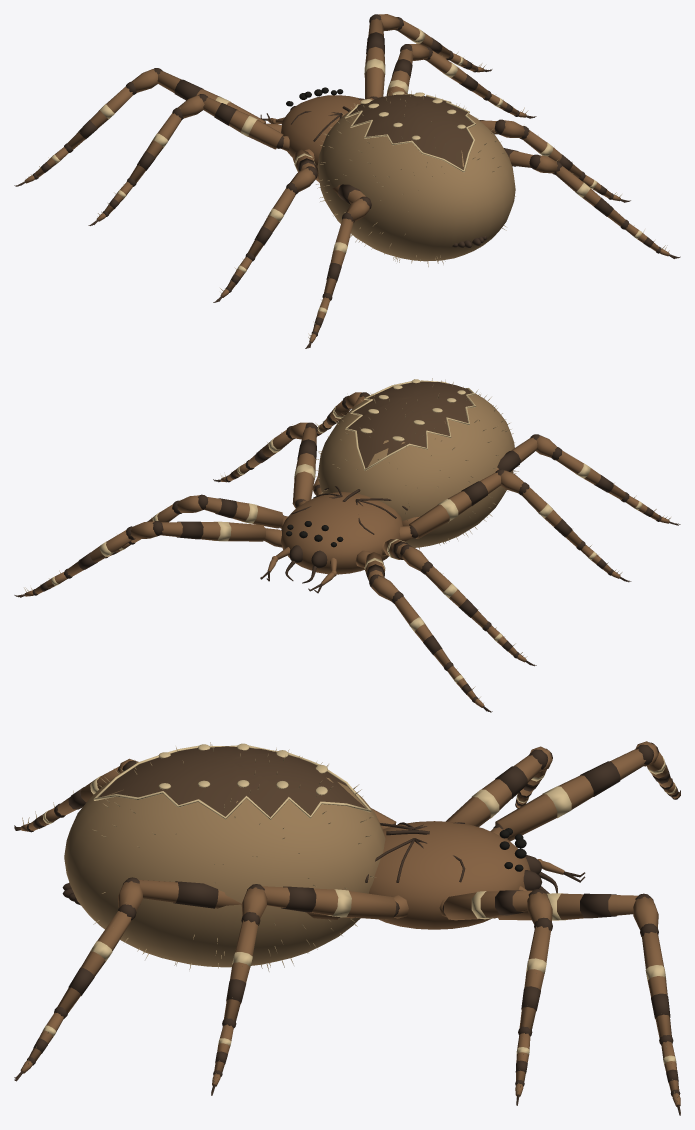
Rendered from OrbWeaverSpider.fbx.
The picture shows the model from 3 angles, top to bottom: view 1: azimuth 30°, elevation 25°; view 2: azimuth 150°, elevation 25°; view 3: azimuth 270°, elevation 25°; orthographic projection. The views are drawn at different scales.
Parts seen in each view (by area): view 1: Material group OrbWeaverSpider_Abdomen, Material group OrbWeaverSpider_BrownCuticle, Material group OrbWeaverSpider_DarkJoint, Material group OrbWeaverSpider_Folium, Material group OrbWeaverSpider_CreamPattern, Material group OrbWeaverSpider_Setae; view 2: Material group OrbWeaverSpider_BrownCuticle, Material group OrbWeaverSpider_Abdomen, Material group OrbWeaverSpider_DarkJoint, Material group OrbWeaverSpider_Folium, Material group OrbWeaverSpider_CreamPattern, Material group OrbWeaverSpider_Setae; view 3: Material group OrbWeaverSpider_Abdomen, Material group OrbWeaverSpider_BrownCuticle, Material group OrbWeaverSpider_DarkJoint, Material group OrbWeaverSpider_Folium, Material group OrbWeaverSpider_CreamPattern, Material group OrbWeaverSpider_Setae.
Boxes of the visible parts, left/top/right/bottom form: Material group OrbWeaverSpider_Abdomen: left=317, top=100, right=515, bottom=261; Material group OrbWeaverSpider_BrownCuticle: left=24, top=14, right=669, bottom=342; Material group OrbWeaverSpider_DarkJoint: left=14, top=14, right=680, bottom=348; Material group OrbWeaverSpider_Folium: left=349, top=94, right=473, bottom=169; Material group OrbWeaverSpider_CreamPattern: left=51, top=28, right=642, bottom=313; Material group OrbWeaverSpider_Setae: left=26, top=52, right=669, bottom=339; Material group OrbWeaverSpider_BrownCuticle: left=24, top=392, right=669, bottom=707; Material group OrbWeaverSpider_Abdomen: left=317, top=393, right=514, bottom=547; Material group OrbWeaverSpider_DarkJoint: left=14, top=392, right=680, bottom=712; Material group OrbWeaverSpider_Folium: left=347, top=381, right=473, bottom=468; Material group OrbWeaverSpider_CreamPattern: left=51, top=379, right=642, bottom=683; Material group OrbWeaverSpider_Setae: left=24, top=378, right=670, bottom=703; Material group OrbWeaverSpider_Abdomen: left=64, top=777, right=385, bottom=967; Material group OrbWeaverSpider_BrownCuticle: left=20, top=741, right=680, bottom=1106; Material group OrbWeaverSpider_DarkJoint: left=14, top=742, right=680, bottom=1115; Material group OrbWeaverSpider_Folium: left=98, top=746, right=365, bottom=817; Material group OrbWeaverSpider_CreamPattern: left=42, top=743, right=676, bottom=1064; Material group OrbWeaverSpider_Setae: left=22, top=742, right=678, bottom=1101.
Bounding box in the file's own units: 1 × 0.2893 × 0.8666.
